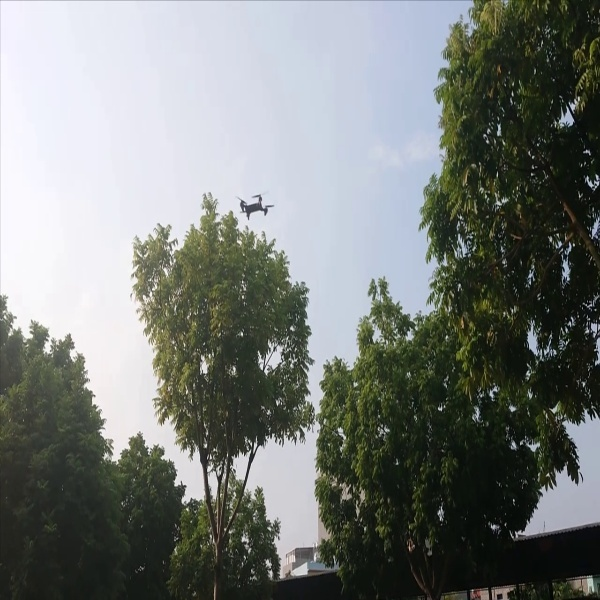drone: (232, 184, 274, 225)
